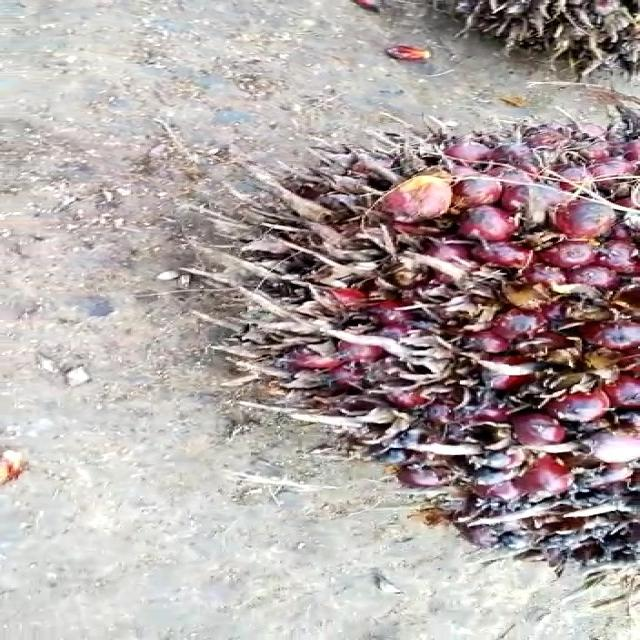palm oil: (201, 115, 640, 610)
